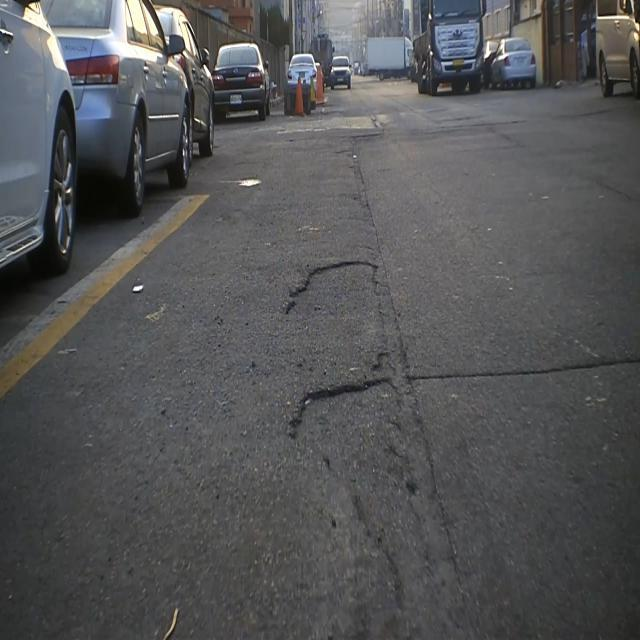pothole: (289, 368, 422, 606), (280, 253, 385, 337)
